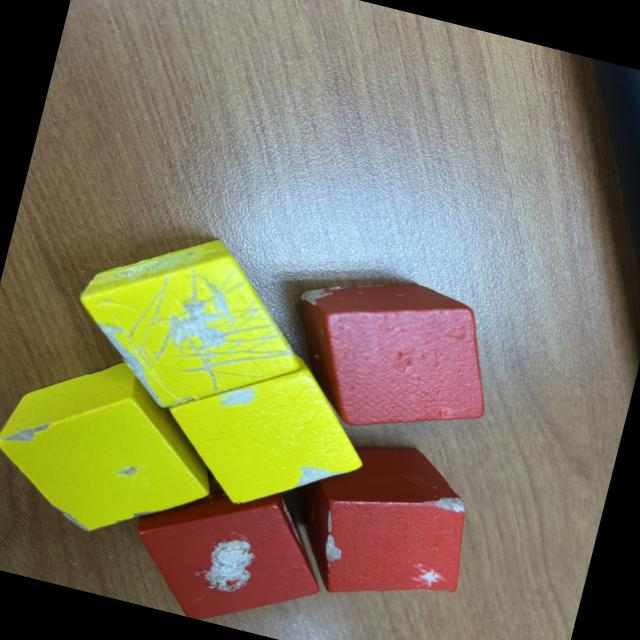broken: (54, 208, 326, 440), (0, 332, 238, 558), (142, 328, 386, 534), (268, 255, 511, 457), (275, 424, 488, 624), (118, 453, 343, 640)
